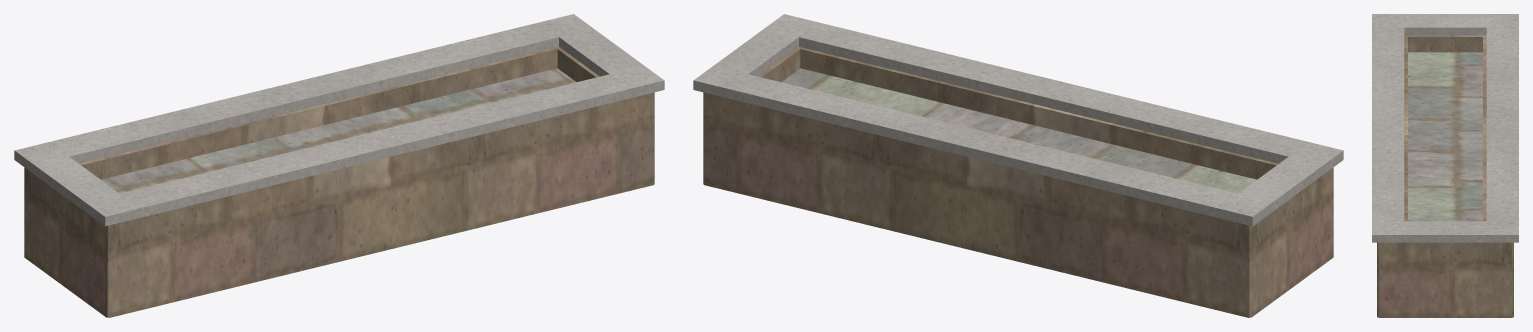
Rendered from planter.glb.
The picture shows the model from 3 angles, left to right: view 1: azimuth 30°, elevation 25°; view 2: azimuth 150°, elevation 25°; view 3: azimuth 270°, elevation 25°; orthographic projection. The views are drawn at different scales.
Visible parts, largest first — view 1: planter_stone2, planter_concrete, planter_roofdeck; view 2: planter_stone2, planter_concrete, planter_roofdeck; view 3: planter_concrete, planter_stone2, planter_roofdeck.
Boxes of the visible parts, x1,y1,x2,y2 form: planter_stone2: [24, 47, 654, 317]; planter_concrete: [14, 14, 664, 226]; planter_roofdeck: [101, 68, 576, 193]; planter_stone2: [703, 47, 1333, 317]; planter_concrete: [693, 14, 1343, 226]; planter_roofdeck: [781, 68, 1256, 193]; planter_concrete: [1372, 14, 1518, 242]; planter_stone2: [1377, 35, 1513, 317]; planter_roofdeck: [1408, 52, 1482, 221].
Bounding box in the file's own units: 3.06 × 0.55 × 0.86.
3 materials, 3 textured.
